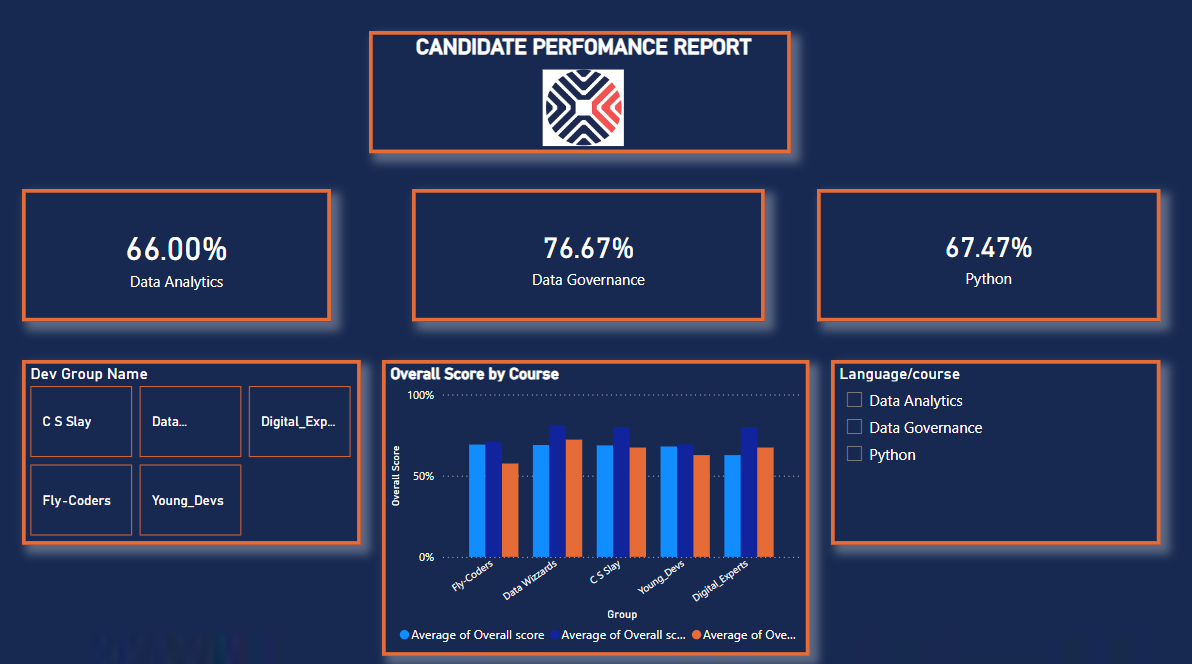

This screenshot's page, from the dashboard's own definition file:
{"tool":"powerbi","page":{"name":"Performance","canvas":[1280,720],"ordinal":1},"visuals":[{"type":"card","fields":{"Values":["Avg(Data Analytics.Overall score)"]},"box":[24.8,207,330.8,141.8],"z":0},{"type":"card","fields":{"Values":["Avg(Data Governance.Overall score)"]},"box":[442.1,207,378,141.8],"z":1000},{"type":"card","fields":{"Values":["Avg(Python.Overall score)"]},"box":[876.4,207,367.9,141.8],"z":2000},{"type":"textbox","title":"CANDIDATE PERFOMANCE REPORT","box":[396,37.1,452.2,130.5],"z":3000},{"type":"advancedSlicerVisual","fields":{"Values":["Python.Dev Group Name"]},"box":[24.8,390.4,363.4,198],"z":4000},{"type":"clusteredColumnChart","title":"Overall Score by Course","fields":{"Category":["Python.Dev Group Name"],"Y":["Avg(Python.Overall score)","Avg(Data Governance.Overall score)","Avg(Data Analytics.Overall score)"]},"box":[410.6,390.4,457.9,317.2],"z":5000},{"type":"slicer","title":"Language/course ","fields":{"Values":["Daily Challenges Survey.Which language/course are you currently busy with ?"]},"box":[891,390.4,353.2,198],"z":6000},{"type":"image","box":[577.1,72,96.8,95.6],"z":7000}]}

Visuals, with their boxes in screenshot pixels (x1, y1, x2, y2), scaled from the page's 1280x720 canvas onto the 1192x664 screenshot:
card - Avg(Data Analytics.Overall score): <bbox>23, 191, 331, 322</bbox>
card - Avg(Data Governance.Overall score): <bbox>412, 191, 764, 322</bbox>
card - Avg(Python.Overall score): <bbox>816, 191, 1159, 322</bbox>
"CANDIDATE PERFOMANCE REPORT" textbox: <bbox>369, 34, 790, 155</bbox>
advancedSlicerVisual - Python.Dev Group Name: <bbox>23, 360, 362, 543</bbox>
"Overall Score by Course" clusteredColumnChart: <bbox>382, 360, 809, 653</bbox>
"Language/course " slicer: <bbox>830, 360, 1159, 543</bbox>
image: <bbox>537, 66, 628, 155</bbox>
